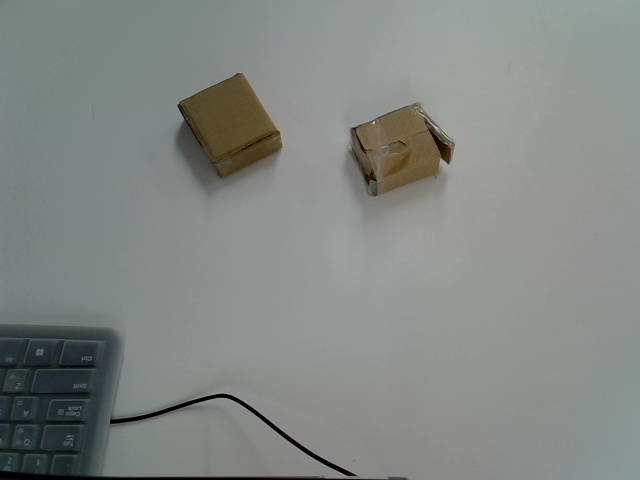defect: (350, 101, 457, 196)
normal: (177, 72, 282, 179)
